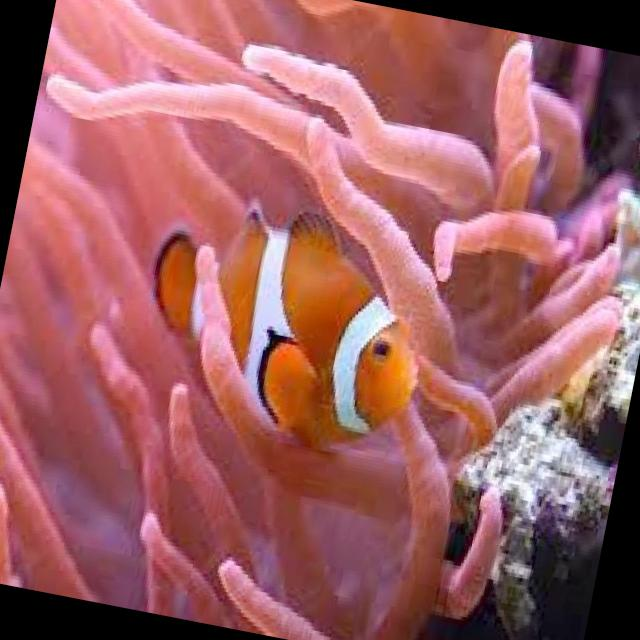ClownFish: (128, 184, 446, 458)
